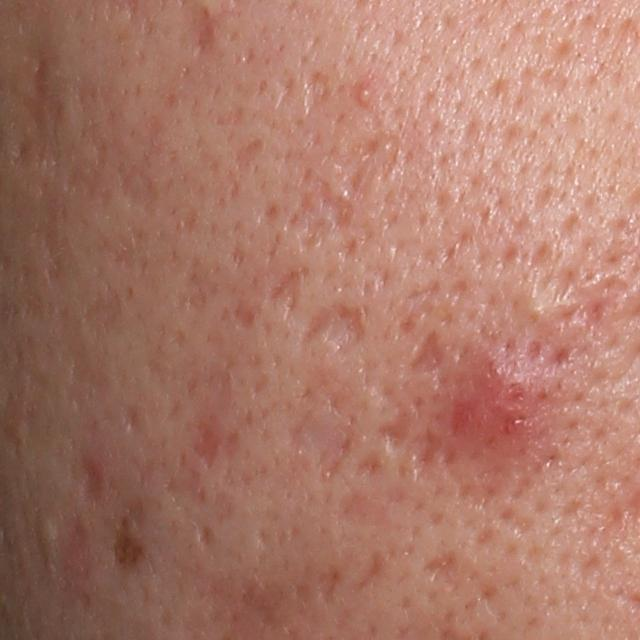atrophic_scar: (441, 415, 525, 510), (11, 53, 68, 173), (282, 401, 359, 485), (294, 299, 371, 362), (288, 181, 330, 259), (175, 247, 220, 315), (263, 259, 306, 321), (332, 490, 399, 529), (417, 546, 464, 601), (76, 289, 128, 338), (123, 152, 161, 216), (311, 177, 355, 232), (404, 425, 447, 479), (404, 328, 451, 376), (190, 417, 228, 474), (375, 403, 415, 457), (294, 562, 341, 606), (304, 69, 341, 116), (350, 546, 386, 593), (231, 132, 266, 172), (256, 197, 284, 231), (195, 519, 219, 553), (229, 302, 256, 330), (255, 516, 273, 555), (227, 238, 246, 267)
comedo: (33, 512, 56, 558)
hypertrophic_scar: (513, 287, 562, 332)
melasma: (109, 515, 151, 574)
papule: (476, 367, 536, 436)
pustule: (355, 83, 378, 105)
